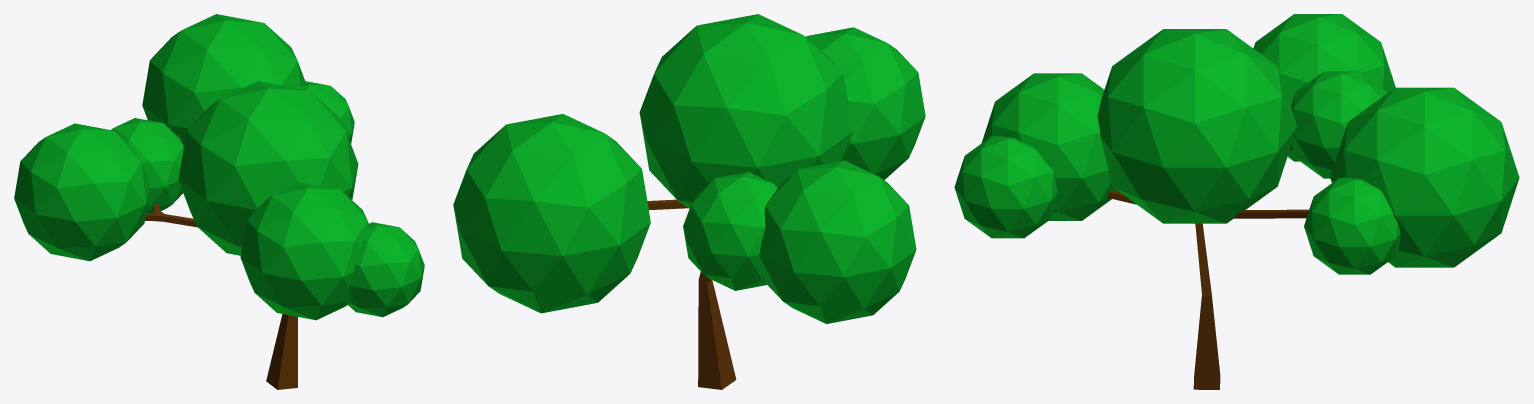
The model's file is FunkyTree.fbx.
3 renders of one model, left to right at view 1: azimuth 30°, elevation 25°; view 2: azimuth 150°, elevation 25°; view 3: azimuth 270°, elevation 25°, orthographic. The views are drawn at different scales.
Parts seen in each view (by area): view 1: Icosphere.006, Icosphere.002, Icosphere.001, Icosphere.004, Icosphere, Icosphere.003, Cube, Icosphere.005; view 2: Icosphere.004, Icosphere.006, Icosphere.002, Icosphere.001, Icosphere.003, Cube; view 3: Icosphere.006, Icosphere.004, Icosphere.001, Icosphere, Icosphere.005, Icosphere.002, Icosphere.003, Cube.
Part boxes in pixels (bbox=[...]): Icosphere.006: bbox=[178, 81, 358, 255]; Icosphere.002: bbox=[14, 123, 150, 261]; Icosphere.001: bbox=[240, 182, 369, 320]; Icosphere.004: bbox=[142, 14, 304, 146]; Icosphere: bbox=[347, 222, 424, 317]; Icosphere.003: bbox=[111, 118, 183, 213]; Cube: bbox=[145, 204, 297, 389]; Icosphere.005: bbox=[299, 81, 354, 143]; Icosphere.004: bbox=[453, 114, 650, 313]; Icosphere.006: bbox=[639, 14, 852, 208]; Icosphere.002: bbox=[759, 160, 916, 323]; Icosphere.001: bbox=[806, 27, 925, 180]; Icosphere.003: bbox=[683, 172, 777, 290]; Cube: bbox=[647, 199, 736, 389]; Icosphere.006: bbox=[1097, 29, 1297, 223]; Icosphere.004: bbox=[1330, 87, 1519, 267]; Icosphere.001: bbox=[981, 73, 1117, 220]; Icosphere: bbox=[954, 136, 1057, 238]; Icosphere.005: bbox=[1304, 178, 1400, 274]; Icosphere.002: bbox=[1253, 14, 1395, 161]; Icosphere.003: bbox=[1291, 71, 1387, 178]; Cube: bbox=[1107, 145, 1308, 389].
Size of the model in its own units: 2381 by 2052 by 3088.
